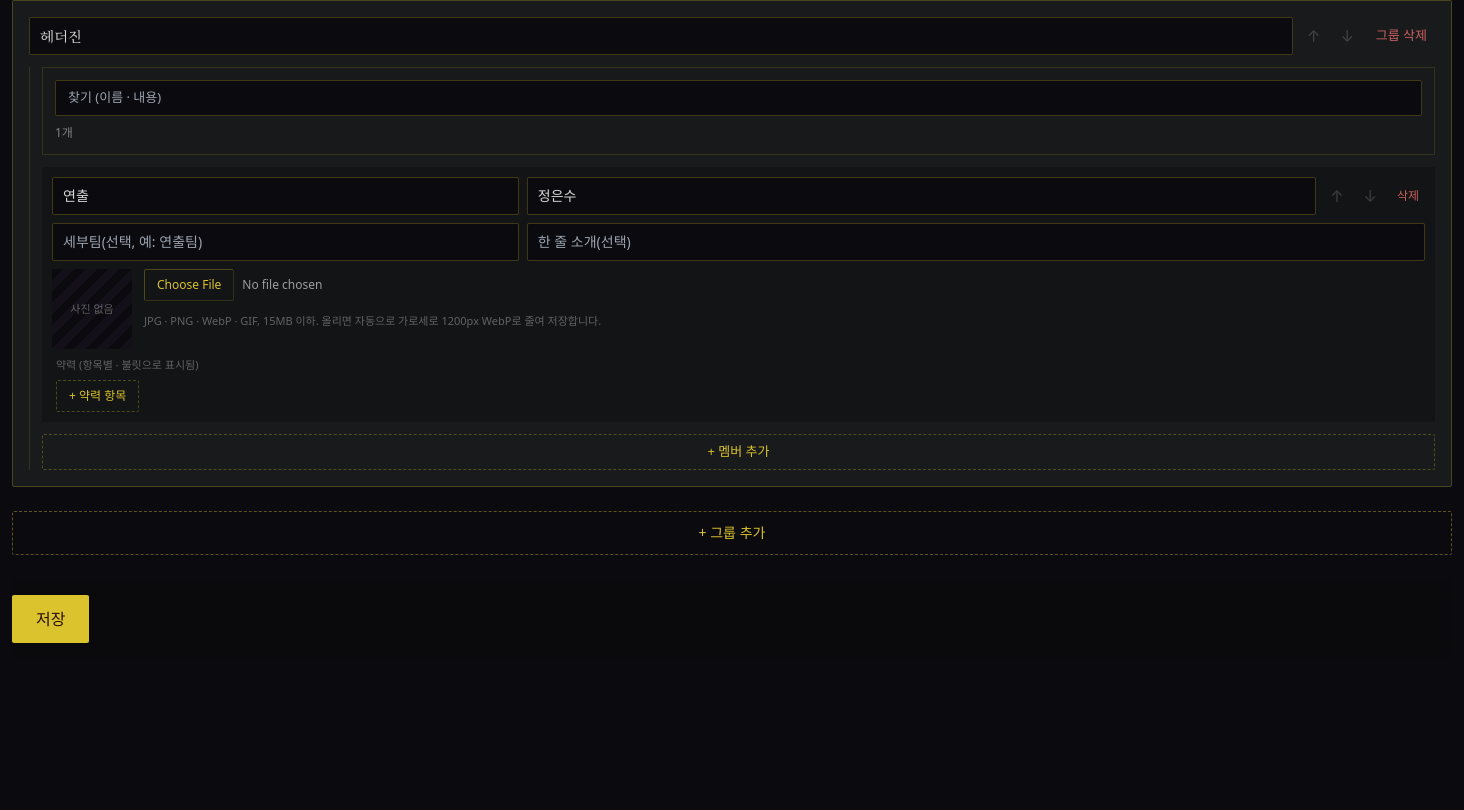
Test: PeopleEditor › 약력 항목을 추가할 수 있다
Click the button "+ 약력 항목". click: (98, 396)
box: 56,380 -> 139,412
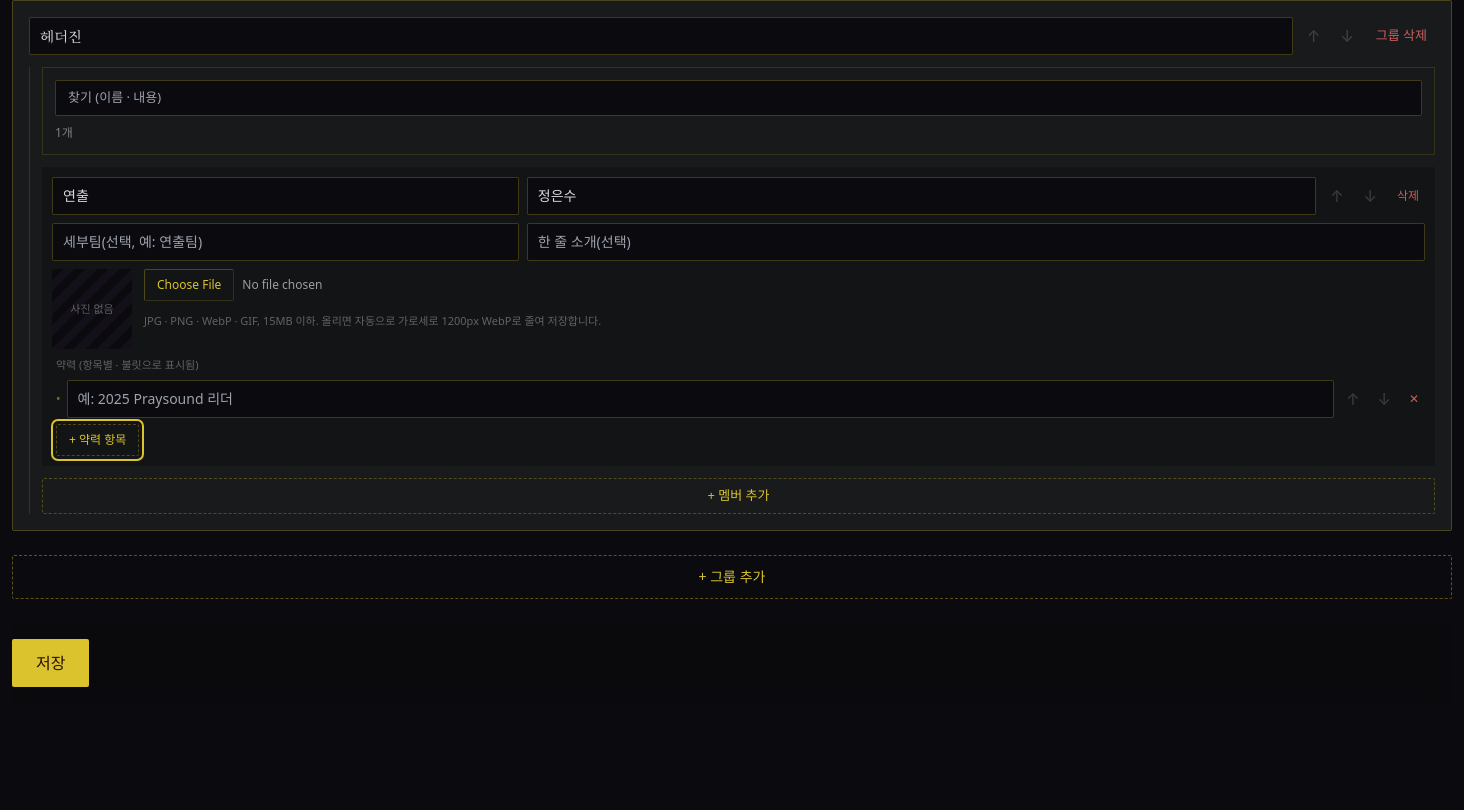
Expected: the number of fields named "약력 항목" is 1, 66,380 -> 1334,418
